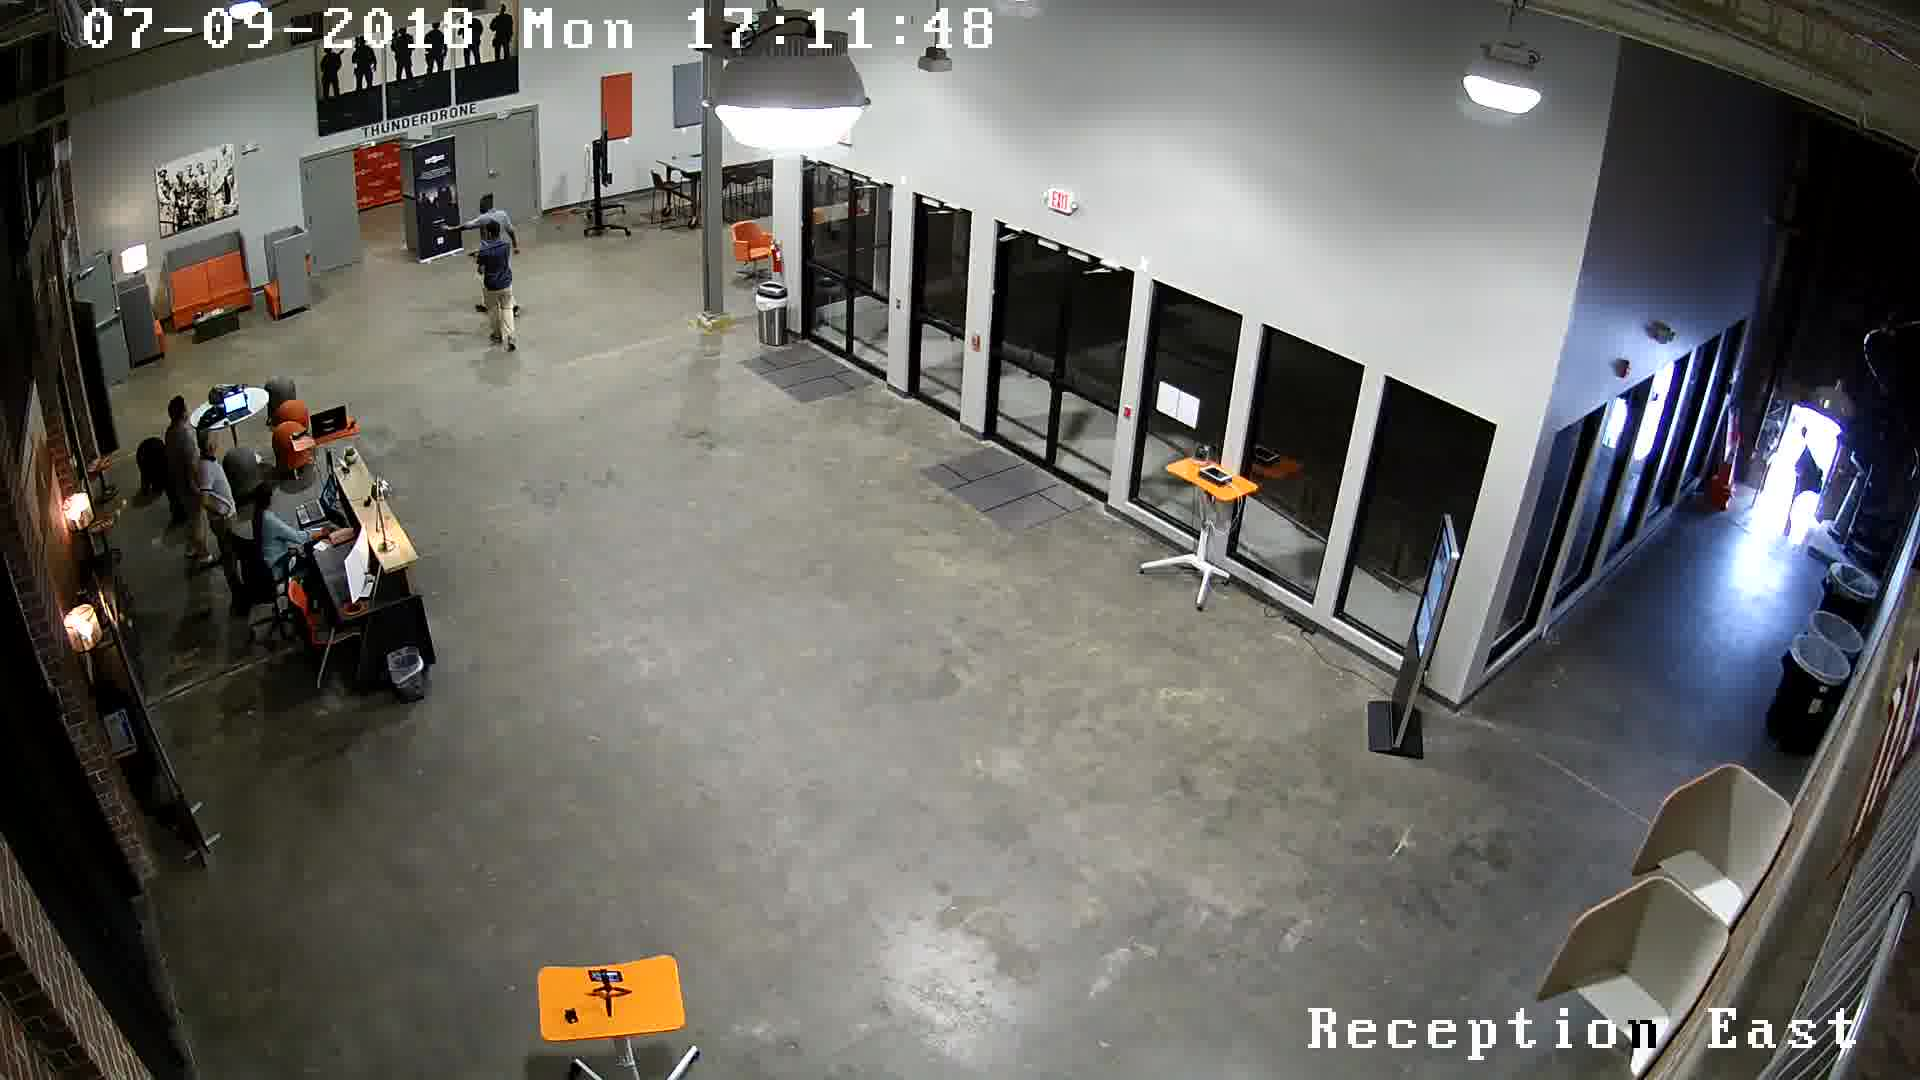pistol: (419, 219, 462, 243), (462, 247, 487, 269)
